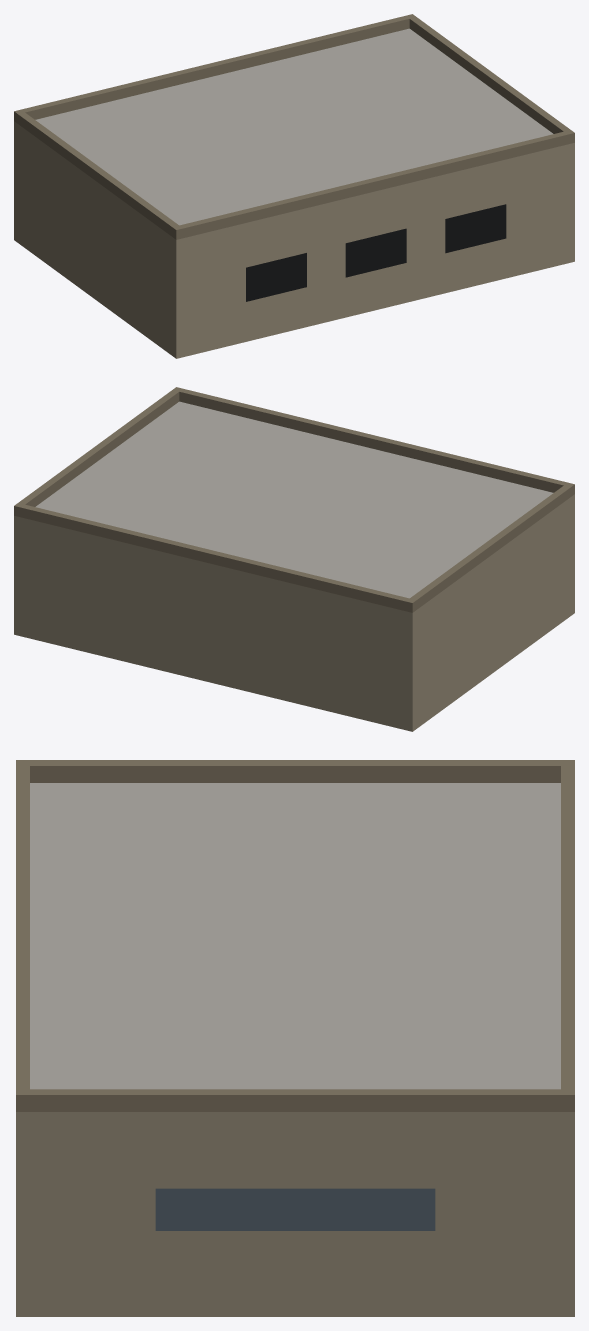
The model's file is zoo-concession-stand.glb.
3 renders of one model, top to bottom at view 1: azimuth 30°, elevation 25°; view 2: azimuth 150°, elevation 25°; view 3: azimuth 270°, elevation 25°, orthographic. The views are drawn at different scales.
Parts seen in each view (by area): view 1: zoo_concession_stand; view 2: zoo_concession_stand; view 3: zoo_concession_stand.
Part boxes in pixels (left/top/right/bottom): zoo_concession_stand: left=14, top=14, right=574, bottom=358; zoo_concession_stand: left=14, top=387, right=574, bottom=731; zoo_concession_stand: left=16, top=760, right=574, bottom=1316.
Bounding box in the file's own units: 17.04 × 5.25 × 12.04.
